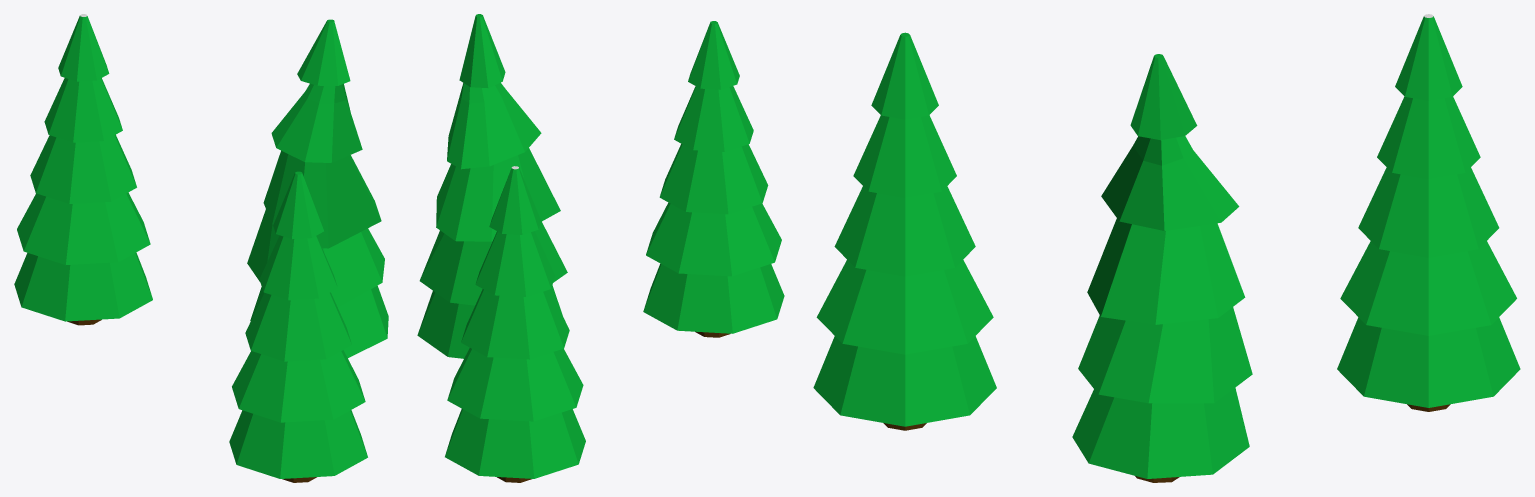
Rendered from pine-tree.glb.
The picture shows the model from 3 angles, left to right: view 1: azimuth 30°, elevation 25°; view 2: azimuth 150°, elevation 25°; view 3: azimuth 270°, elevation 25°; orthographic projection. The views are drawn at different scales.
Parts seen in each view (by area): view 1: pine_tree_1_, pine_tree_1__001, pine_tree_1_var_1; view 2: pine_tree_1__001, pine_tree_1_, pine_tree_1_var_1; view 3: pine_tree_1_var_1, pine_tree_1_, pine_tree_1__001.
Part boxes in pixels (bbox=[...]): pine_tree_1_: bbox=[229, 171, 367, 482]; pine_tree_1__001: bbox=[14, 14, 152, 325]; pine_tree_1_var_1: bbox=[247, 19, 388, 357]; pine_tree_1__001: bbox=[445, 166, 585, 482]; pine_tree_1_: bbox=[643, 21, 784, 337]; pine_tree_1_var_1: bbox=[417, 14, 567, 358]; pine_tree_1_var_1: bbox=[1072, 54, 1252, 482]; pine_tree_1_: bbox=[813, 32, 996, 430]; pine_tree_1__001: bbox=[1337, 14, 1520, 411].
Size of the model in its own units: 228 by 296 by 425.
